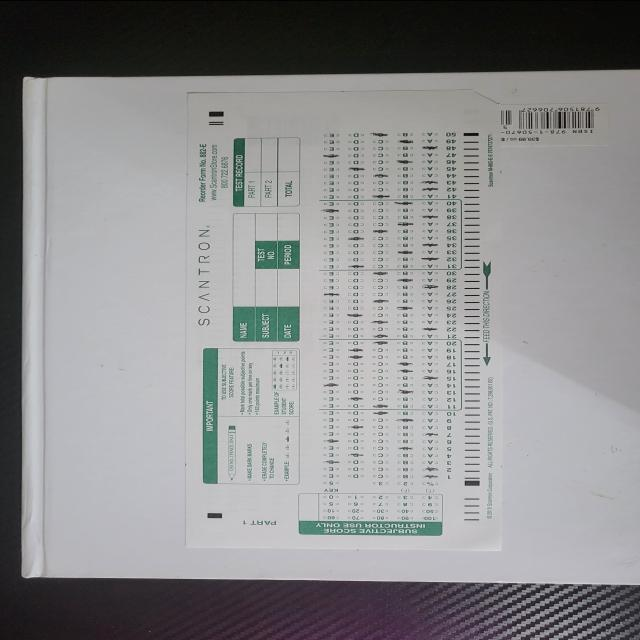scantron: (183, 89, 501, 550)
